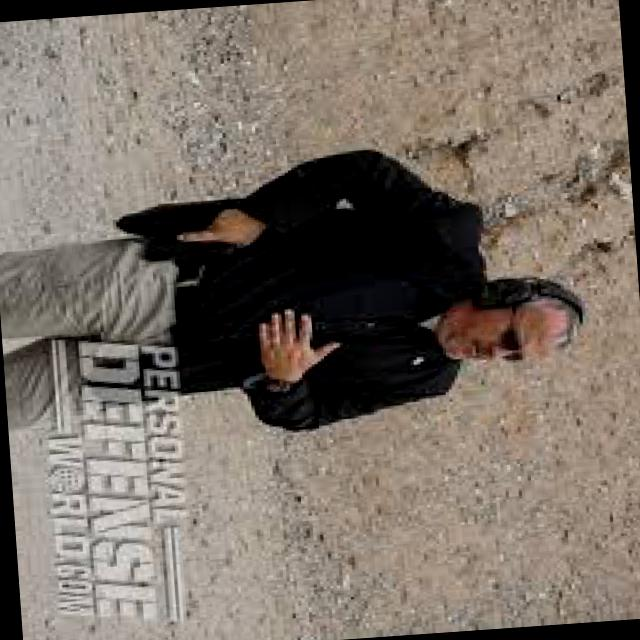handgun: (133, 198, 243, 262)
